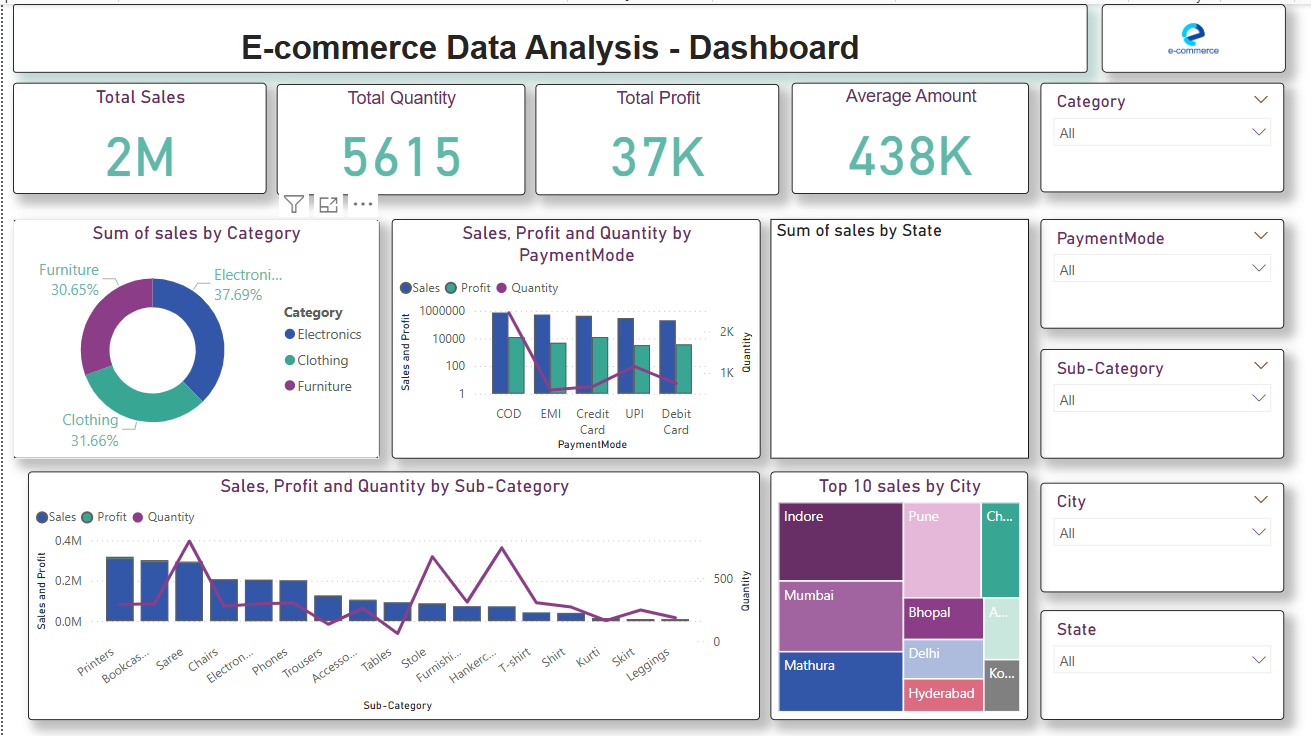

Layout of this report page (visuals, bound fields, positions):
{"tool":"powerbi","page":{"name":"Page 1","canvas":[1280,720],"ordinal":0},"visuals":[{"type":"textbox","box":[9.6,0,1051.1,67.2],"z":0},{"type":"image","box":[1074.4,0,179.8,67.2],"z":1000},{"type":"card","title":"Total Sales","fields":{"Values":["Sum(Details.sales)"]},"box":[9.6,76.8,248.4,108.4],"z":2000},{"type":"card","title":"Total Quantity","fields":{"Values":["Sum(Details.Quantity)"]},"box":[267.6,78.2,242.9,108.4],"z":3000},{"type":"card","title":"Total Profit","fields":{"Values":["Sum(Details.Profit)"]},"box":[521.4,78.2,238.8,108.4],"z":4000},{"type":"card","title":"Average Amount","fields":{"Values":["Sum(Details.Amount)"]},"box":[771.2,76.8,231.9,108.4],"z":5000},{"type":"slicer","fields":{"Values":["Details.Category"]},"box":[1015.4,76.8,238.8,107],"z":6000},{"type":"slicer","fields":{"Values":["Details.PaymentMode"]},"box":[1015.4,209.9,238.8,107],"z":7000},{"type":"slicer","fields":{"Values":["Details.Sub-Category"]},"box":[1015.4,337.6,238.8,107],"z":8000},{"type":"slicer","fields":{"Values":["Orders.City"]},"box":[1015.4,467.9,238.8,107],"z":9000},{"type":"slicer","fields":{"Values":["Orders.State"]},"box":[1015.4,592.8,238.8,107],"z":10000},{"type":"donutChart","fields":{"Category":["Details.Category"],"Y":["Sum(Details.sales)"]},"box":[9.6,209.9,358.1,234.6],"z":11000},{"type":"lineClusteredColumnComboChart","fields":{"Category":["Details.PaymentMode"],"Y":["Sum(Details.sales)","Sum(Details.Profit)"],"Y2":["Sum(Details.Quantity)"]},"box":[380.1,209.9,360.9,234.6],"z":12000},{"type":"lineStackedColumnComboChart","fields":{"Y":["Sum(Details.sales)","Sum(Details.Profit)"],"Y2":["Sum(Details.Quantity)"],"Category":["Details.Sub-Category"]},"box":[24.7,456.9,716.3,242.9],"z":13000},{"type":"filledMap","fields":{"Category":["Orders.State"]},"box":[750.6,209.9,252.5,234.6],"z":14000},{"type":"treemap","title":"Top 10 sales by City","fields":{"Group":["Orders.City"],"Values":["Sum(Details.sales)"]},"box":[751,457,252,243],"z":15000}]}

Visuals, with their boxes in screenshot pixels (x1, y1, x2, y2), scaled from the page's 1280x720 canvas onto the 1311x736 screenshot:
textbox: x1=10, y1=0, x2=1086, y2=69
image: x1=1100, y1=0, x2=1285, y2=69
"Total Sales" card: x1=10, y1=79, x2=264, y2=189
"Total Quantity" card: x1=274, y1=80, x2=523, y2=191
"Total Profit" card: x1=534, y1=80, x2=779, y2=191
"Average Amount" card: x1=790, y1=79, x2=1027, y2=189
slicer - Details.Category: x1=1040, y1=79, x2=1285, y2=188
slicer - Details.PaymentMode: x1=1040, y1=215, x2=1285, y2=324
slicer - Details.Sub-Category: x1=1040, y1=345, x2=1285, y2=454
slicer - Orders.City: x1=1040, y1=478, x2=1285, y2=588
slicer - Orders.State: x1=1040, y1=606, x2=1285, y2=715
donutChart - Details.Category x Sum(Details.sales): x1=10, y1=215, x2=377, y2=454
lineClusteredColumnComboChart - Details.PaymentMode x Sum(Details.sales): x1=389, y1=215, x2=759, y2=454
lineStackedColumnComboChart - Sum(Details.sales) x Sum(Details.Profit): x1=25, y1=467, x2=759, y2=715
filledMap - Orders.State: x1=769, y1=215, x2=1027, y2=454
"Top 10 sales by City" treemap: x1=769, y1=467, x2=1027, y2=716
